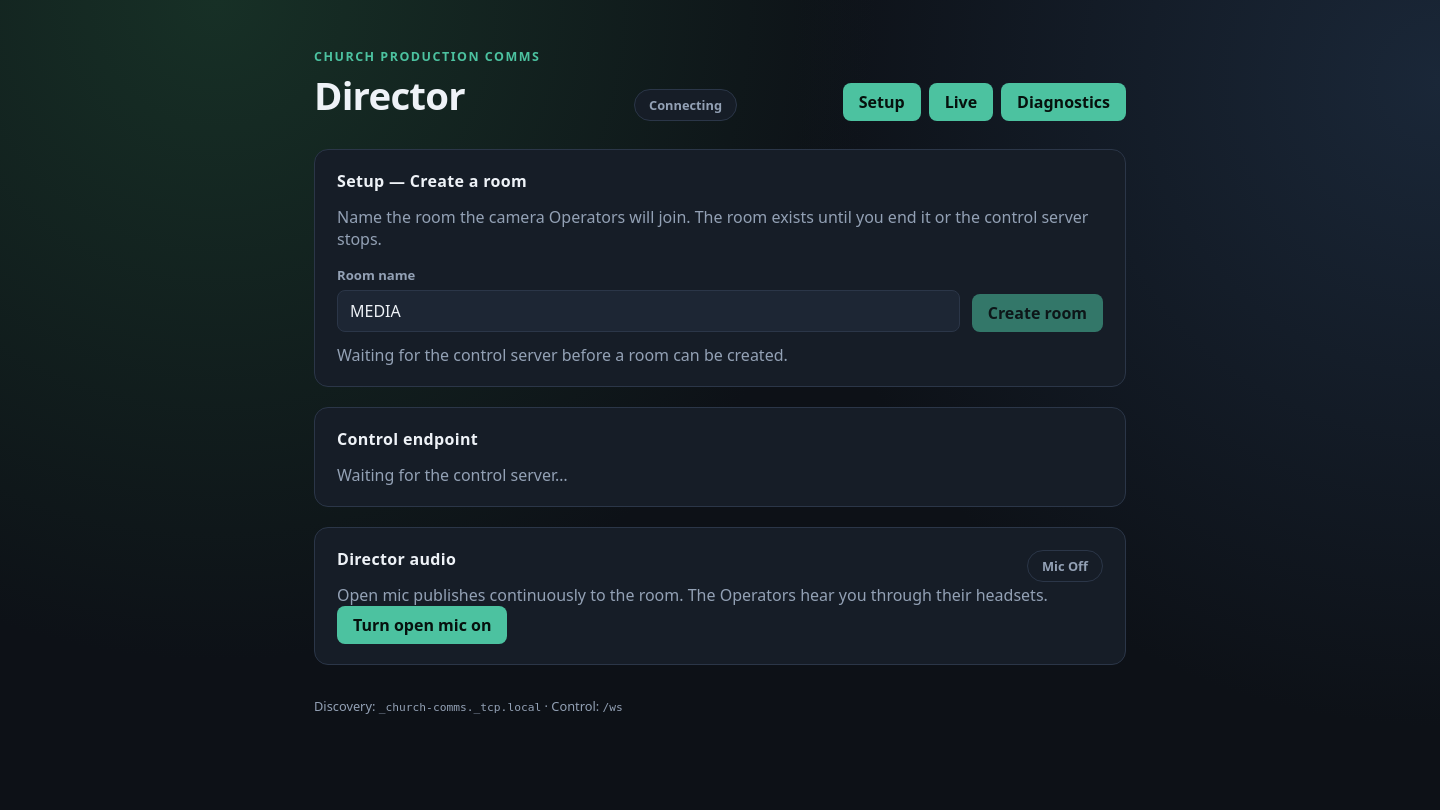
Test case: Director connection › turns open mic on and off from the Director page
The image size is (1440, 810).
Click the button "Turn open mic on".
click(422, 625)  # box left=337, top=606, right=508, bottom=644
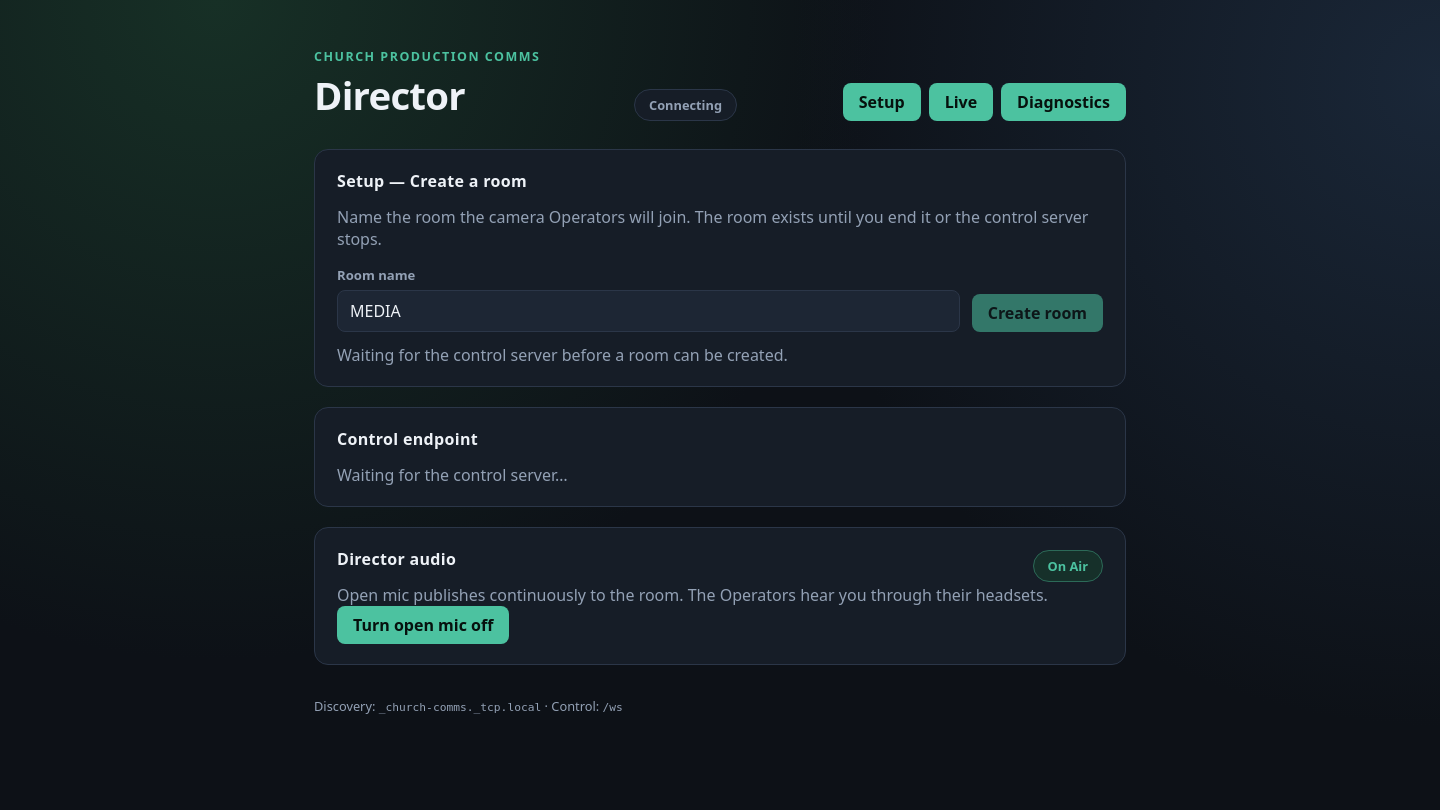
Now the text with test id "media-status" reads "on air", box left=1048, top=557, right=1088, bottom=575
Now the button "Turn open mic off" is shown
Click the button "Turn open mic off".
click(423, 625)  # box left=337, top=606, right=509, bottom=644
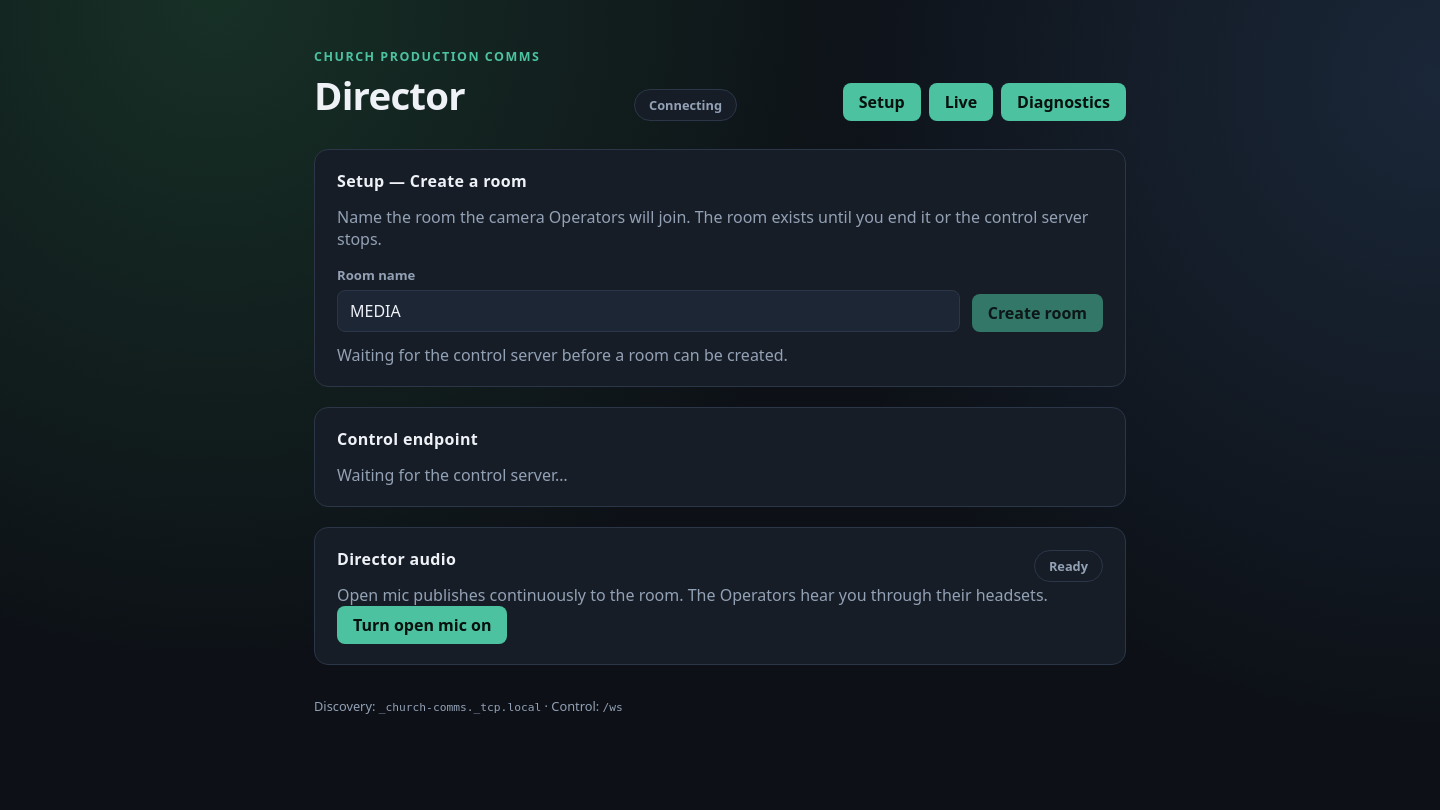
Now the text with test id "media-status" reads "ready", box left=1049, top=557, right=1088, bottom=575
Now the button "Turn open mic on" is shown, box left=337, top=606, right=508, bottom=644
